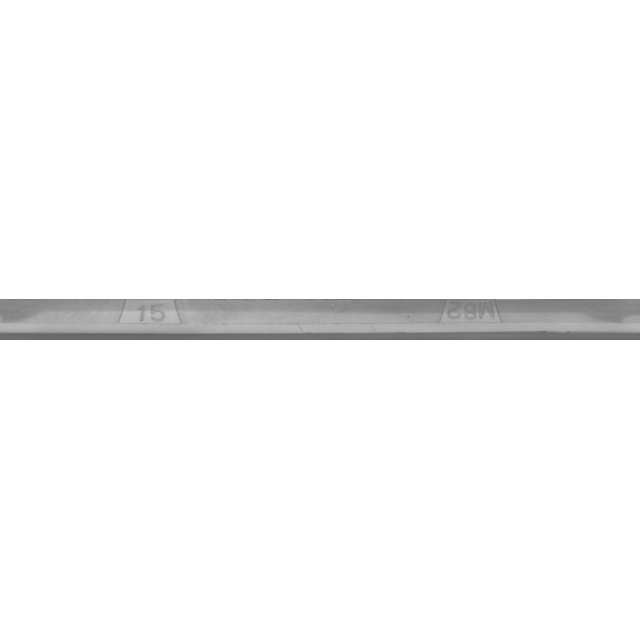mohao: (369, 270, 569, 370)
xuehao: (50, 270, 250, 370)
